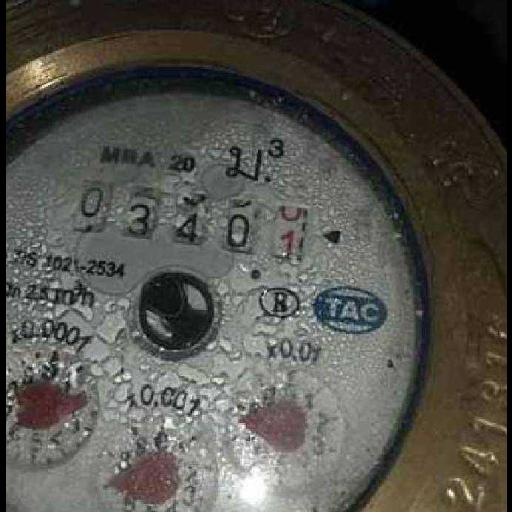0: (72, 179, 112, 233), (271, 206, 308, 260), (223, 200, 259, 255)
3: (120, 187, 158, 240)
4: (173, 193, 210, 245)
border_water_meter_number: (64, 175, 316, 268)
